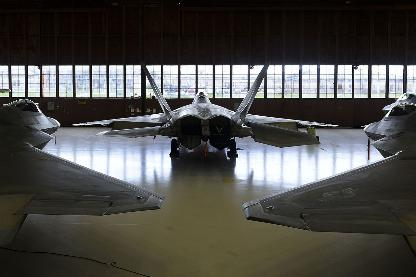F18: (70, 59, 342, 156), (241, 103, 415, 236), (1, 98, 166, 215), (381, 92, 415, 115)
